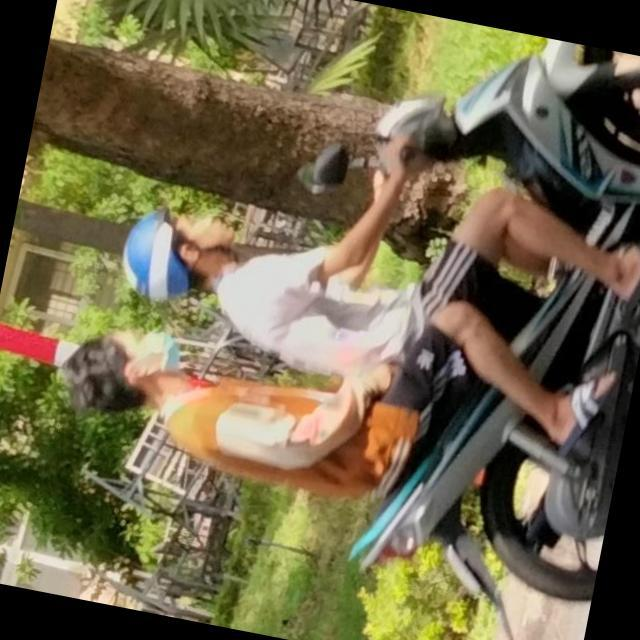WITH_HELMET: (112, 202, 206, 306)
